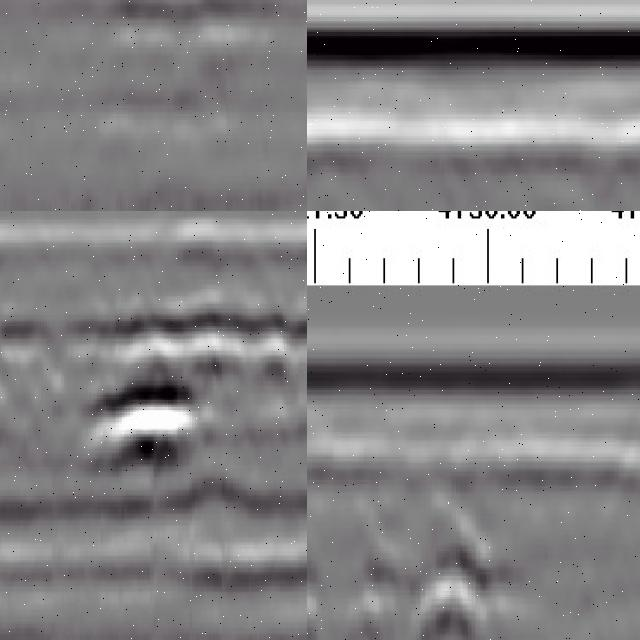loose: (73, 296, 308, 466), (308, 510, 507, 640), (121, 1, 246, 117)
